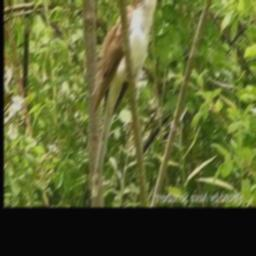Cuckoo: (92, 0, 166, 198)
